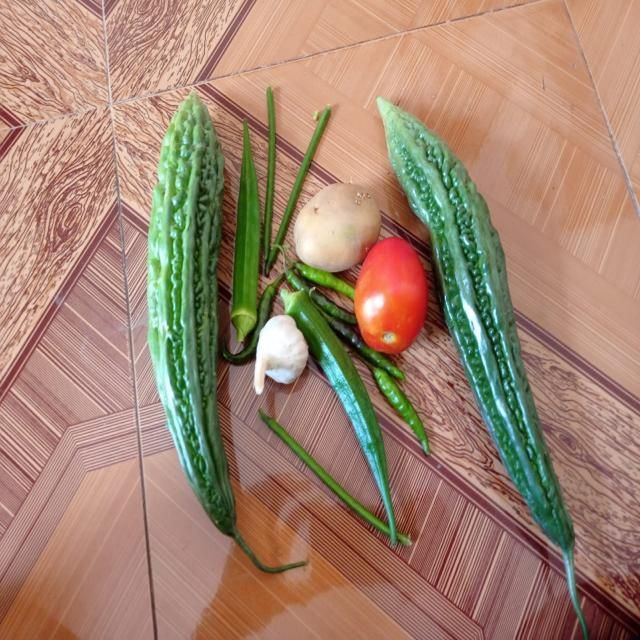Organik: (426, 93, 621, 593), (150, 86, 232, 546), (289, 176, 386, 270), (352, 237, 429, 355), (228, 118, 264, 345), (252, 315, 318, 415), (371, 363, 439, 456), (265, 86, 282, 273)
